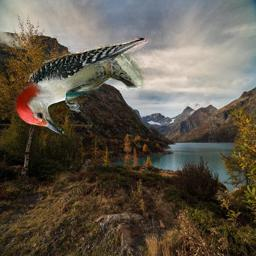Woodpecker: (14, 39, 148, 136)
